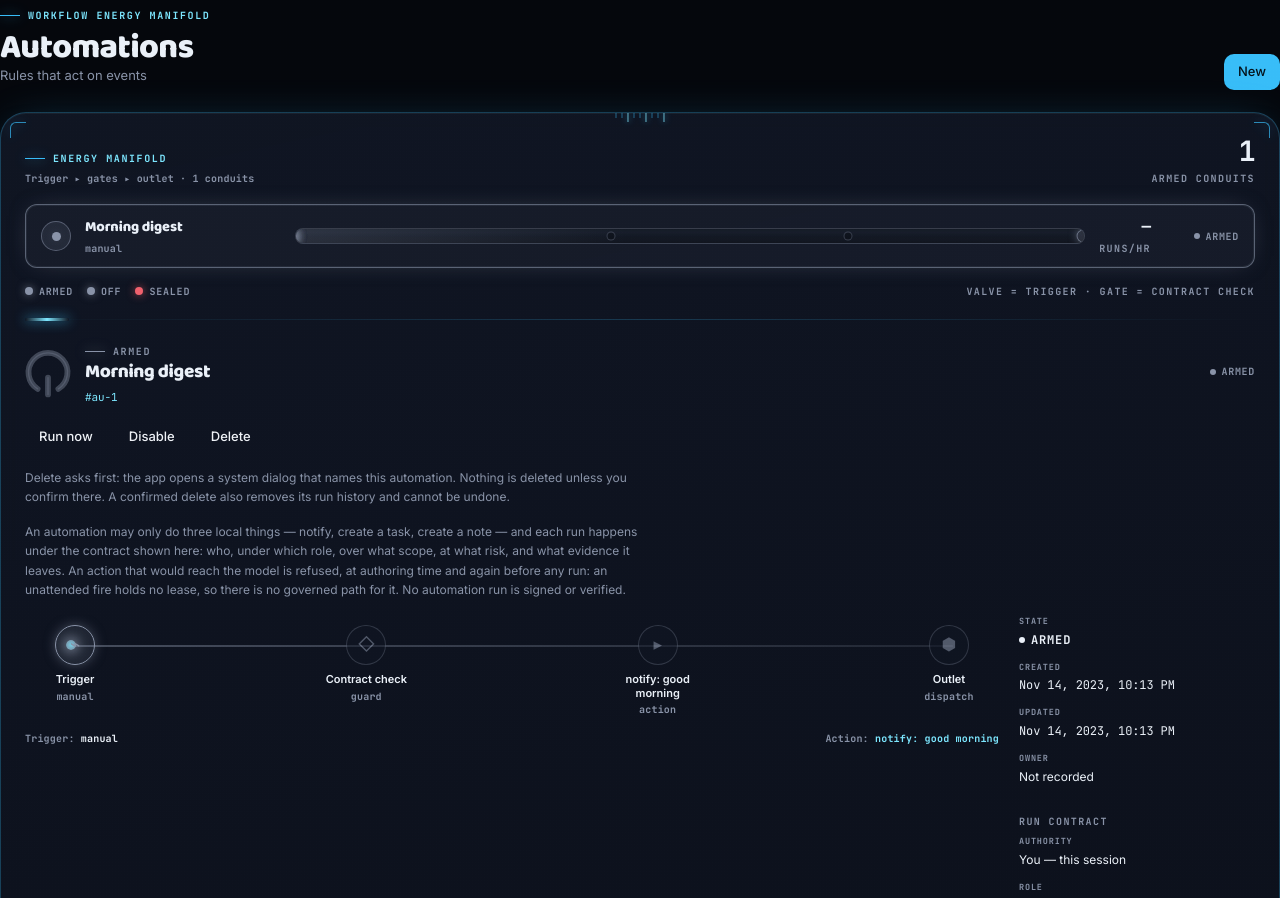
it: an allowed run carries a contract, and the history says what is known › records a backend refusal as a refusal — never as a run, and flagged as unpersisted
expect the text "Morning digest" is shown: met, box x1=85 y1=215 x2=182 y2=239
Click the button "Run now".
click(66, 437)  # box x1=25 y1=419 x2=107 y2=455
(page scrolled)
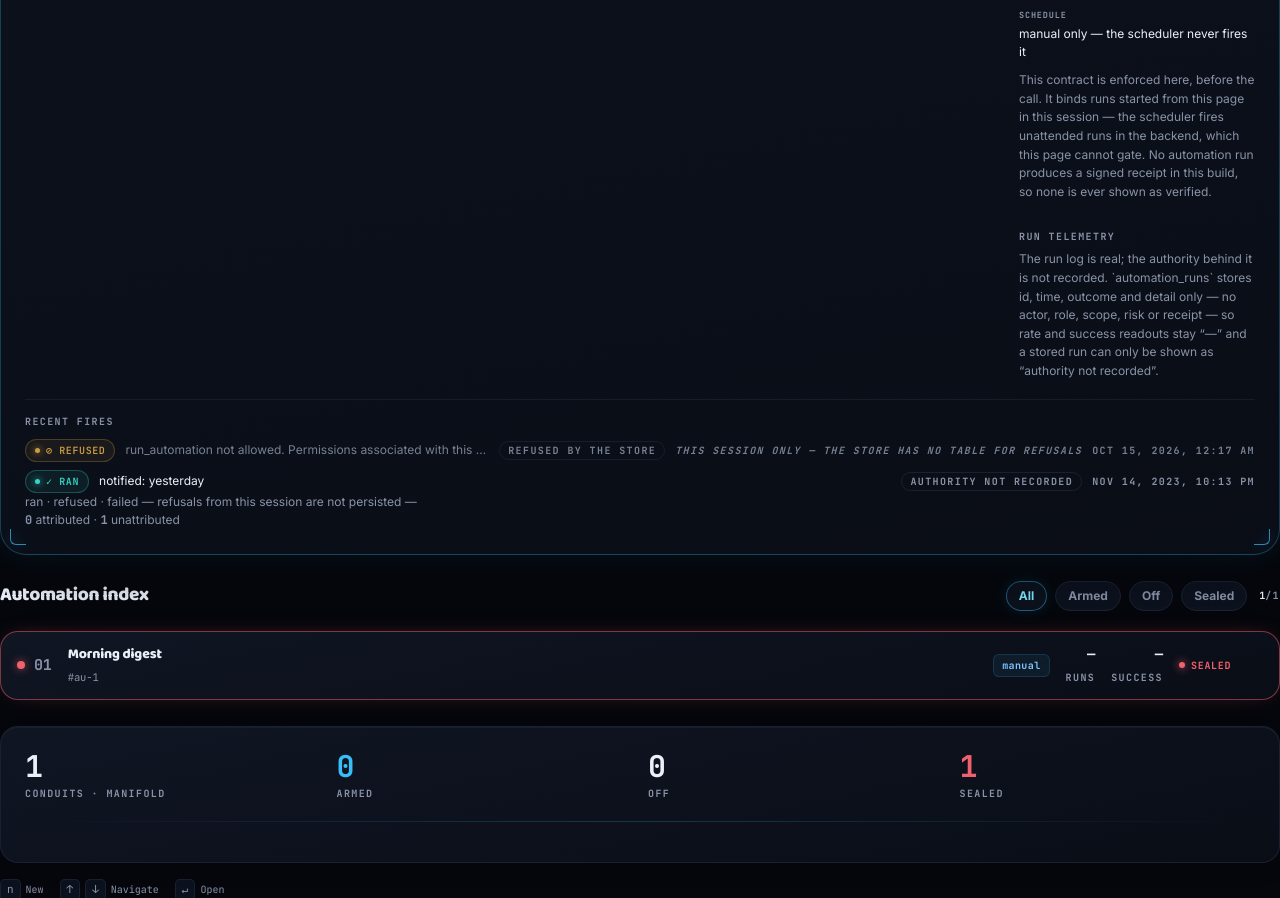
expect the number of list items with class "au-run" is 2: met, box x1=25 y1=438 x2=1255 y2=462; x1=25 y1=470 x2=1255 y2=492
expect the list item with class "au-run" that starts with "refused" is shown: met, box x1=25 y1=438 x2=1255 y2=462
expect the list item with class "au-run" shows "refused by the store": met, box x1=508 y1=444 x2=656 y2=456
